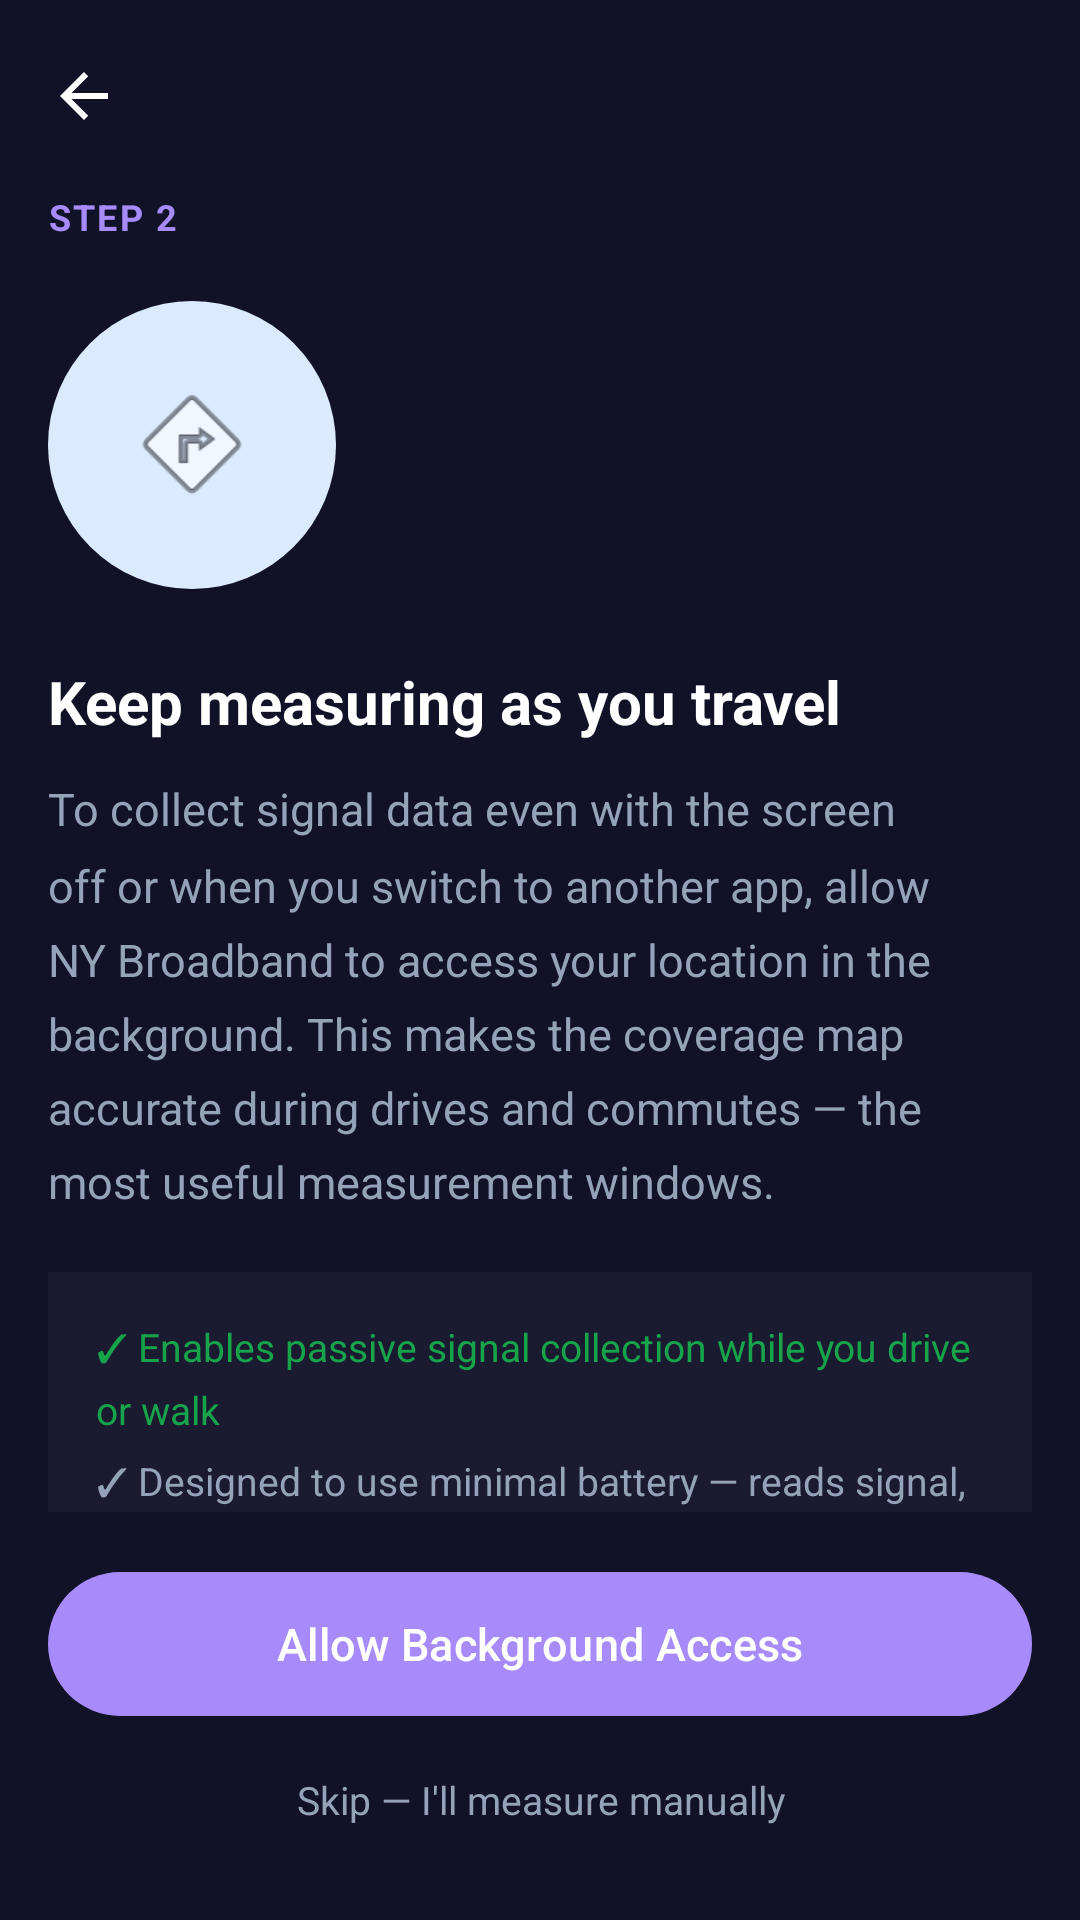

Where icons sit on this 1080px×1920px app screen, as [x1, y1, x2, y2]:
directions: [48, 301, 336, 589]
